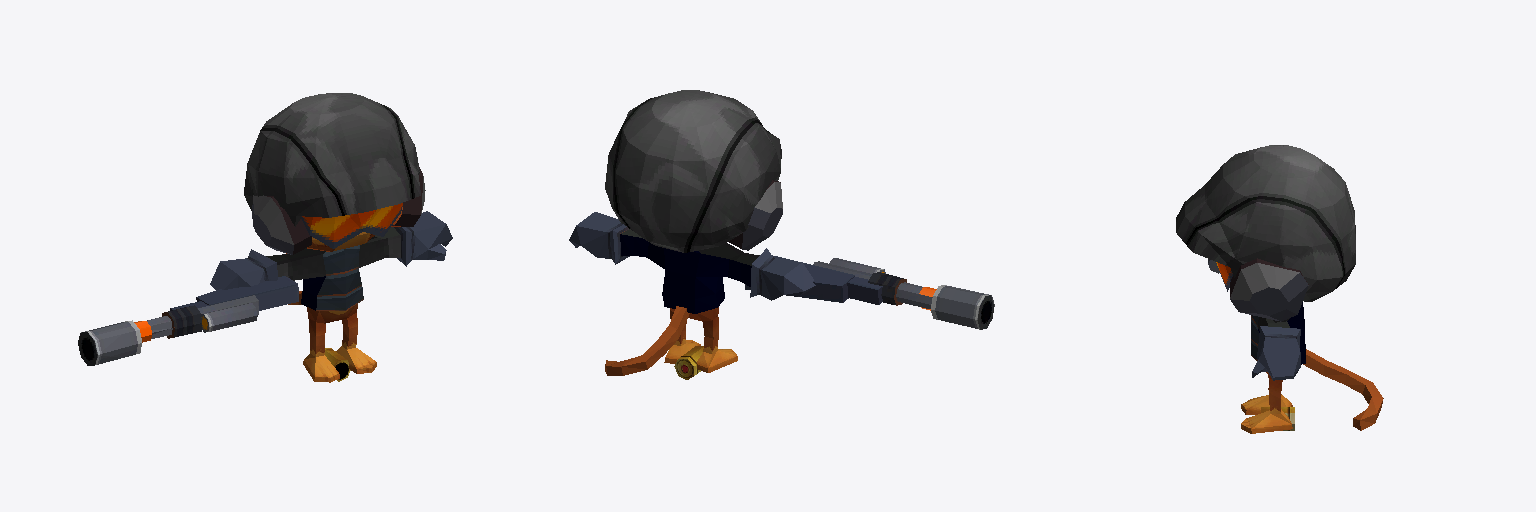
3 views of the same model, side by side, from view 1: azimuth 30°, elevation 25°; view 2: azimuth 150°, elevation 25°; view 3: azimuth 270°, elevation 25° (orthographic).
Parts seen in each view (by area): view 1: FlatSkin_SniperMonkey_FullAutoRifle; view 2: FlatSkin_SniperMonkey_FullAutoRifle, ShellCasing_ShellCasing.001; view 3: FlatSkin_SniperMonkey_FullAutoRifle.
Boxes of the visible parts, x1,y1,x2,y2 form: FlatSkin_SniperMonkey_FullAutoRifle: [78, 93, 452, 382]; FlatSkin_SniperMonkey_FullAutoRifle: [569, 90, 994, 375]; ShellCasing_ShellCasing.001: [674, 346, 703, 379]; FlatSkin_SniperMonkey_FullAutoRifle: [1176, 145, 1383, 433].
Size of the model in its own units: 34.7 by 23.38 by 16.05.
2 materials, 2 textured.